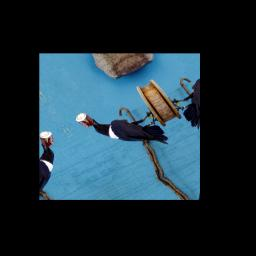Crow: (87, 95, 174, 168)
